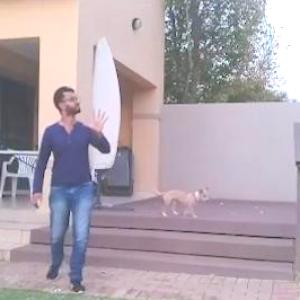follow_hand: (81, 104, 112, 138)
